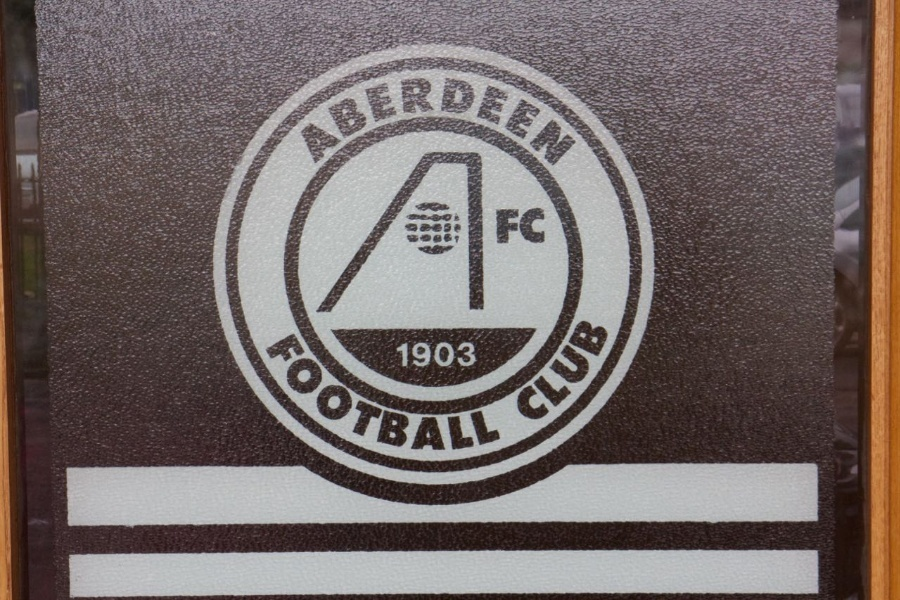text: (289, 330, 304, 499), (305, 330, 320, 499), (321, 330, 336, 499), (337, 330, 352, 499), (353, 330, 368, 499), (369, 330, 384, 499), (385, 330, 400, 499), (401, 330, 416, 499), (417, 330, 432, 499), (433, 330, 448, 499), (449, 330, 464, 499), (465, 330, 480, 499), (481, 330, 496, 499), (513, 318, 528, 436), (529, 318, 544, 436), (545, 318, 560, 436), (561, 318, 576, 436), (577, 318, 592, 436), (593, 318, 608, 436), (609, 318, 624, 436), (305, 72, 320, 166), (321, 72, 336, 166), (337, 72, 352, 166), (353, 72, 368, 166), (369, 72, 384, 166), (385, 72, 400, 166), (401, 72, 416, 166), (417, 72, 432, 166), (433, 72, 448, 166), (449, 72, 464, 166), (465, 72, 480, 166), (481, 72, 496, 166), (497, 72, 512, 166), (513, 72, 528, 166), (529, 72, 544, 166), (545, 72, 560, 166), (561, 72, 576, 166), (282, 330, 288, 499), (497, 330, 503, 499), (297, 72, 304, 166), (497, 206, 512, 246), (513, 206, 528, 246), (529, 206, 544, 246), (507, 318, 512, 436), (401, 342, 416, 369), (417, 342, 432, 369), (433, 342, 448, 369), (449, 342, 464, 369), (465, 342, 479, 369), (492, 206, 496, 246), (545, 206, 549, 246), (396, 342, 400, 369)
